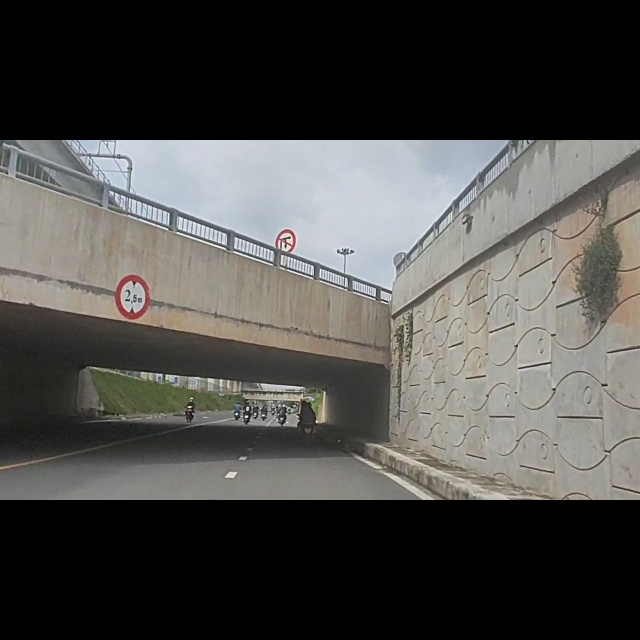bien_cam: (114, 237, 152, 319), (274, 154, 297, 203)
